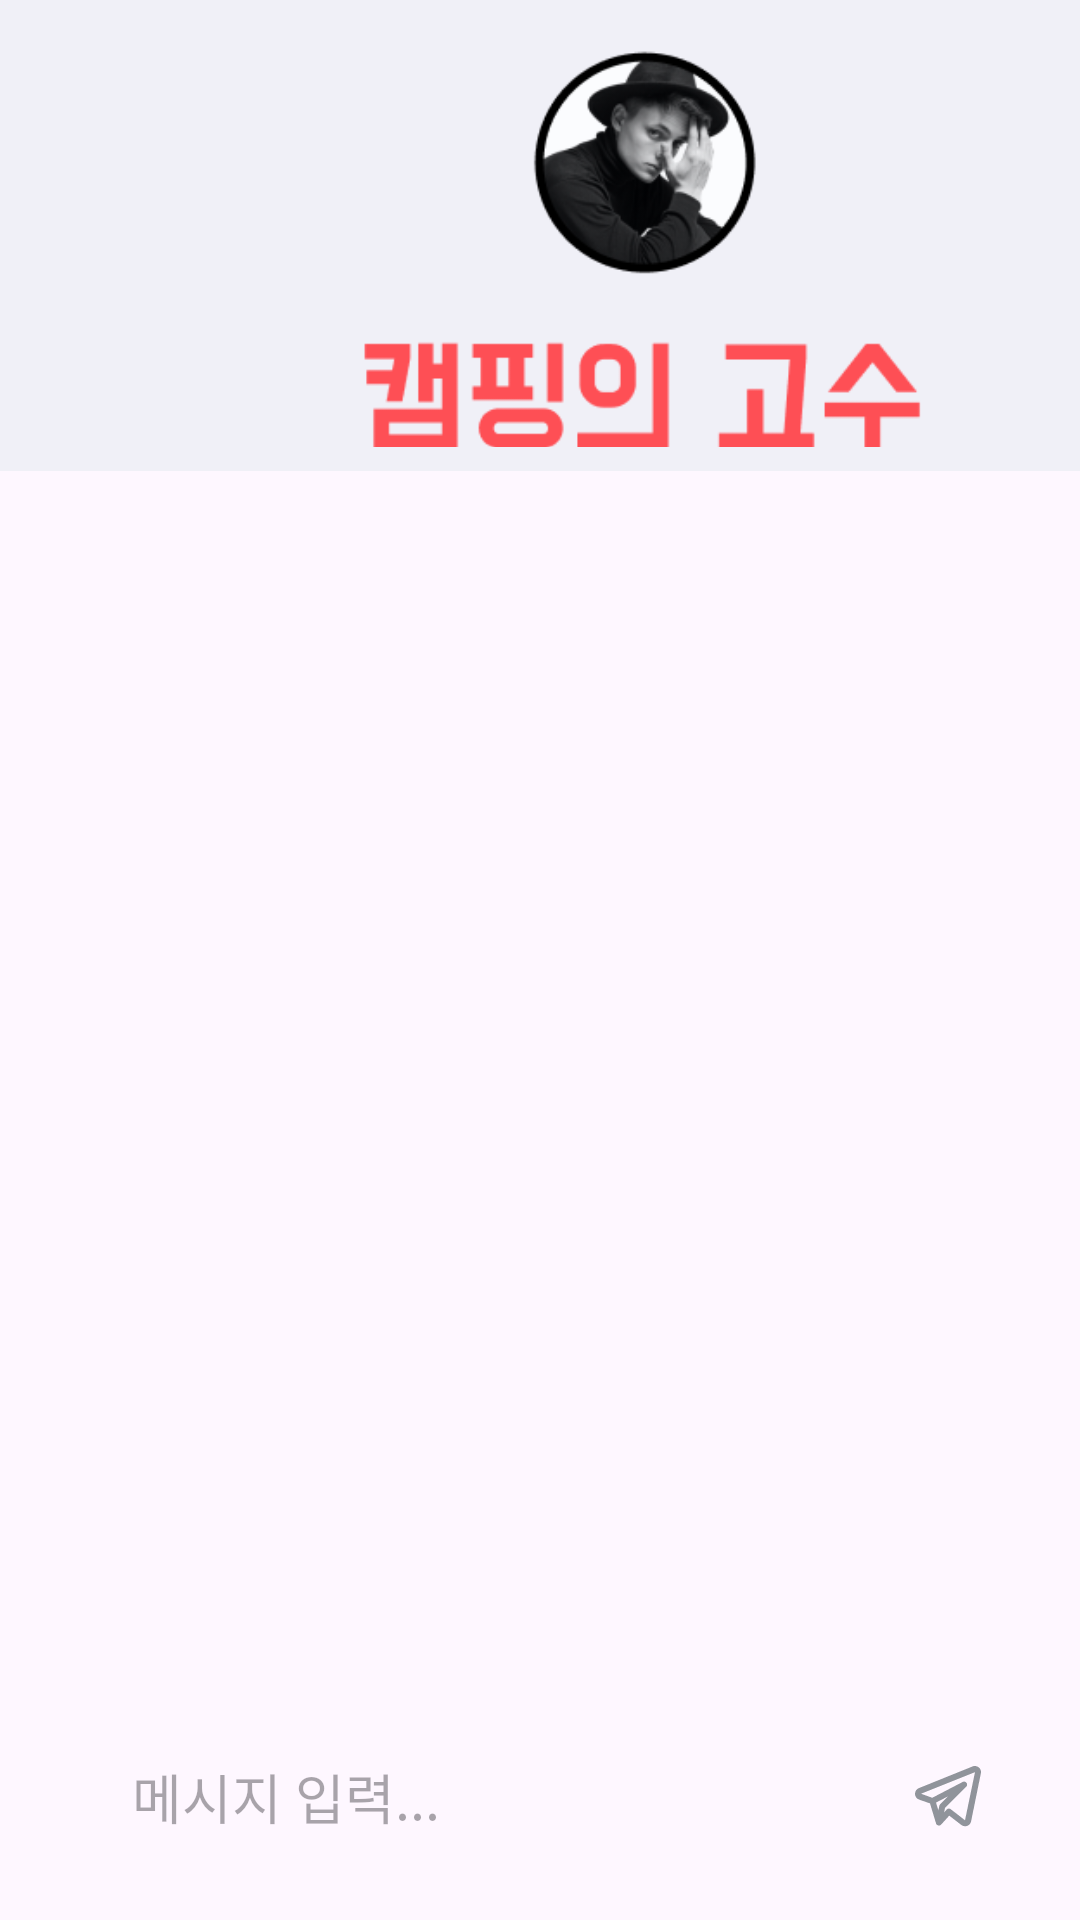

Icons on this 1080px×1920px Android screen, each with the point to tap as (x,y):
메시지 전송: (948,1796)
